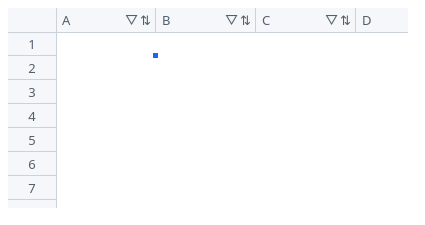
LatticaGrid editing › skips the end selection range on date inputs (no selection API support)
Double-click the table with test id "lattica-grid" at [208, 108], box 8,8 -> 408,208
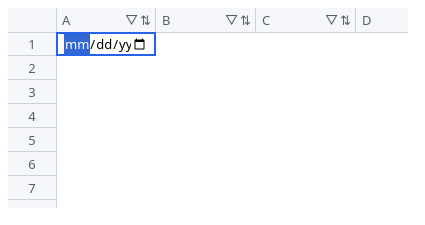
Result: the date field with test id "lattica-editor-date" is shown at 56,32 -> 156,56
